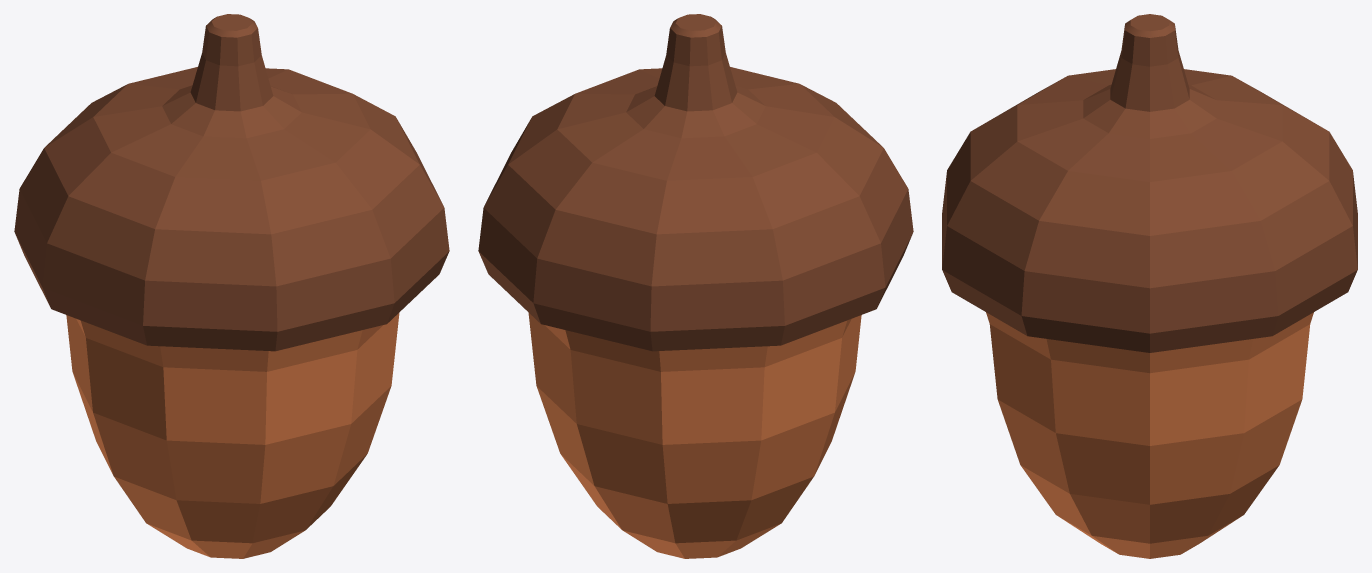
The model's file is Acorn-test.glb.
3 views of the same model, side by side, from view 1: azimuth 30°, elevation 25°; view 2: azimuth 150°, elevation 25°; view 3: azimuth 270°, elevation 25° (orthographic).
Visible parts, largest first — view 1: polySurface1; view 2: polySurface1; view 3: polySurface1.
Part boxes in pixels (x1=…): polySurface1: x1=14, y1=14, x2=449, y2=558; polySurface1: x1=478, y1=14, x2=913, y2=558; polySurface1: x1=942, y1=14, x2=1357, y2=558.
Size of the model in its own units: 5.19 by 6.9 by 4.94.
